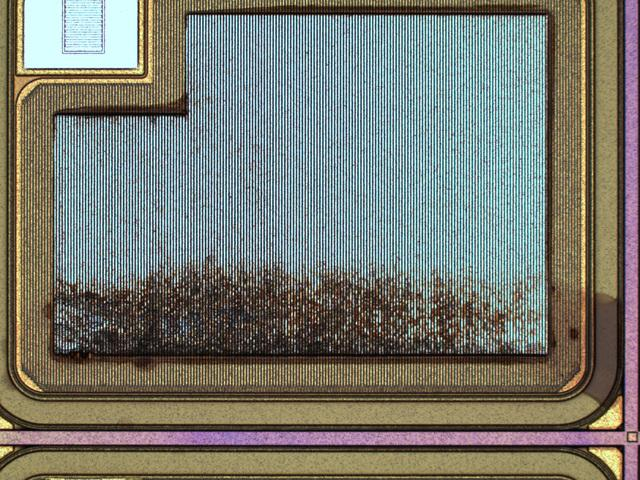SEZ BURNT: (43, 1, 639, 419)
